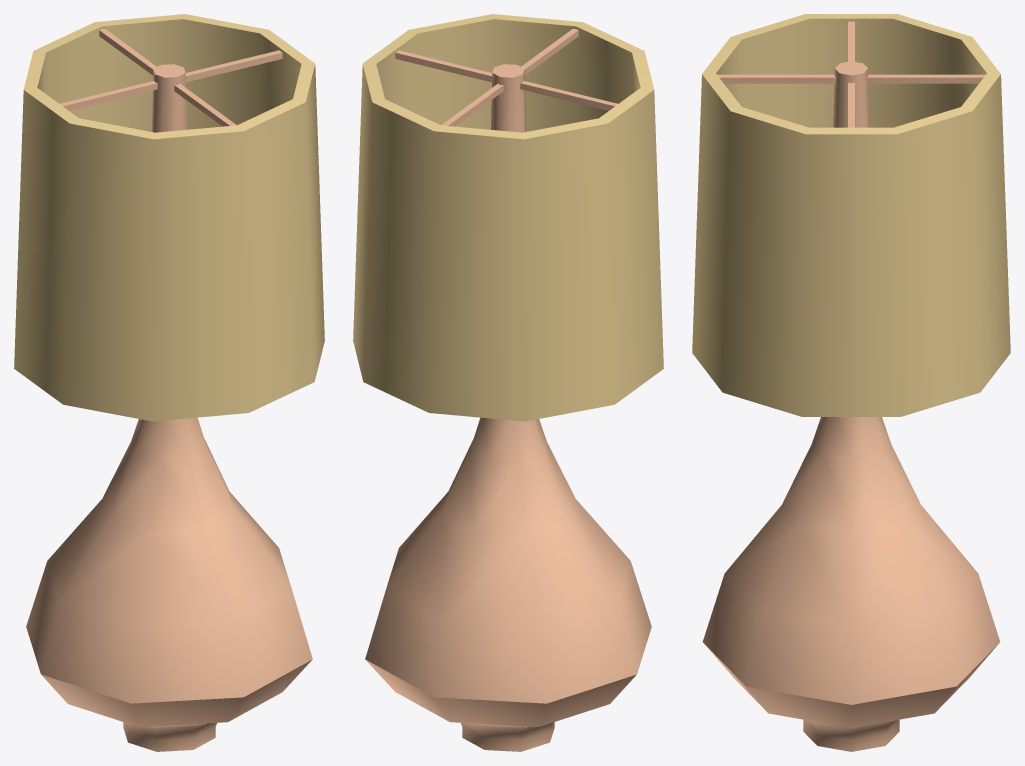
The model's file is lamp.glb.
3 renders of one model, left to right at view 1: azimuth 30°, elevation 25°; view 2: azimuth 150°, elevation 25°; view 3: azimuth 270°, elevation 25°, orthographic.
Parts seen in each view (by area): view 1: Light_Floor2; view 2: Light_Floor2; view 3: Light_Floor2.
Boxes of the visible parts, <box> form: Light_Floor2: <box>14,14,324,751</box>; Light_Floor2: <box>353,14,663,751</box>; Light_Floor2: <box>692,14,1010,751</box>.
Bounding box in the file's own units: 0.3133 × 0.7567 × 0.3294.
